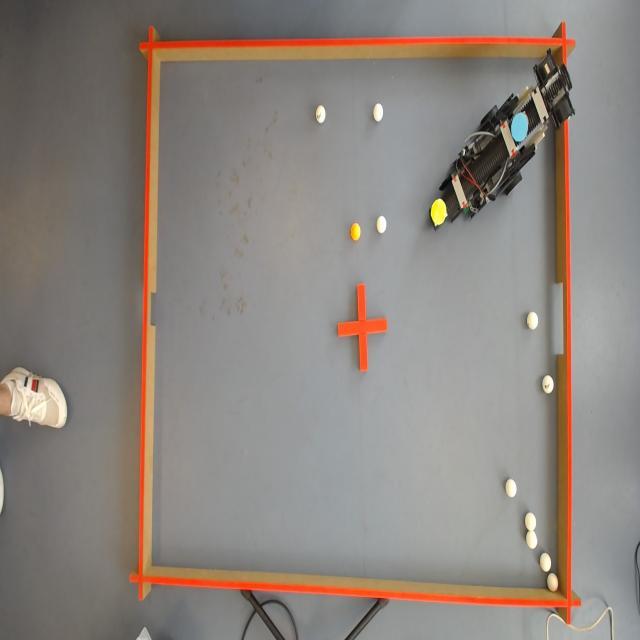orange: (351, 224, 362, 241)
robot: (428, 50, 572, 234)
robot-front: (431, 200, 448, 224)
robot-rear: (511, 111, 529, 145)
white: (525, 510, 537, 531), (541, 552, 553, 573), (314, 106, 328, 124), (547, 573, 559, 593), (526, 531, 538, 551), (526, 311, 540, 328), (372, 102, 383, 123), (542, 373, 554, 391), (507, 479, 519, 496), (377, 214, 387, 234)
